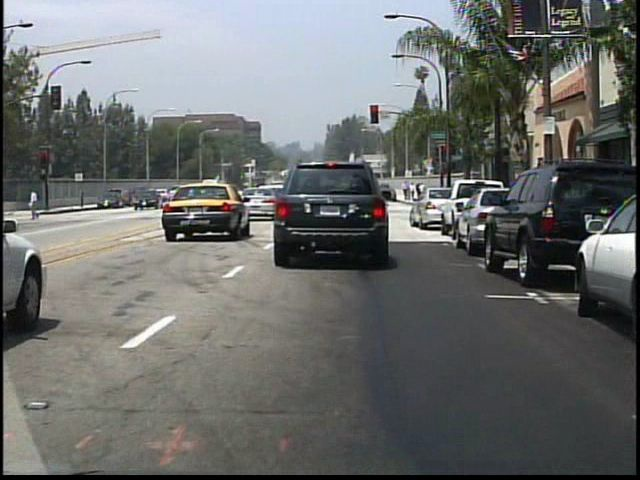person: (423, 179, 443, 214), (30, 186, 43, 223), (419, 180, 428, 204), (410, 181, 418, 203), (402, 180, 410, 201)
